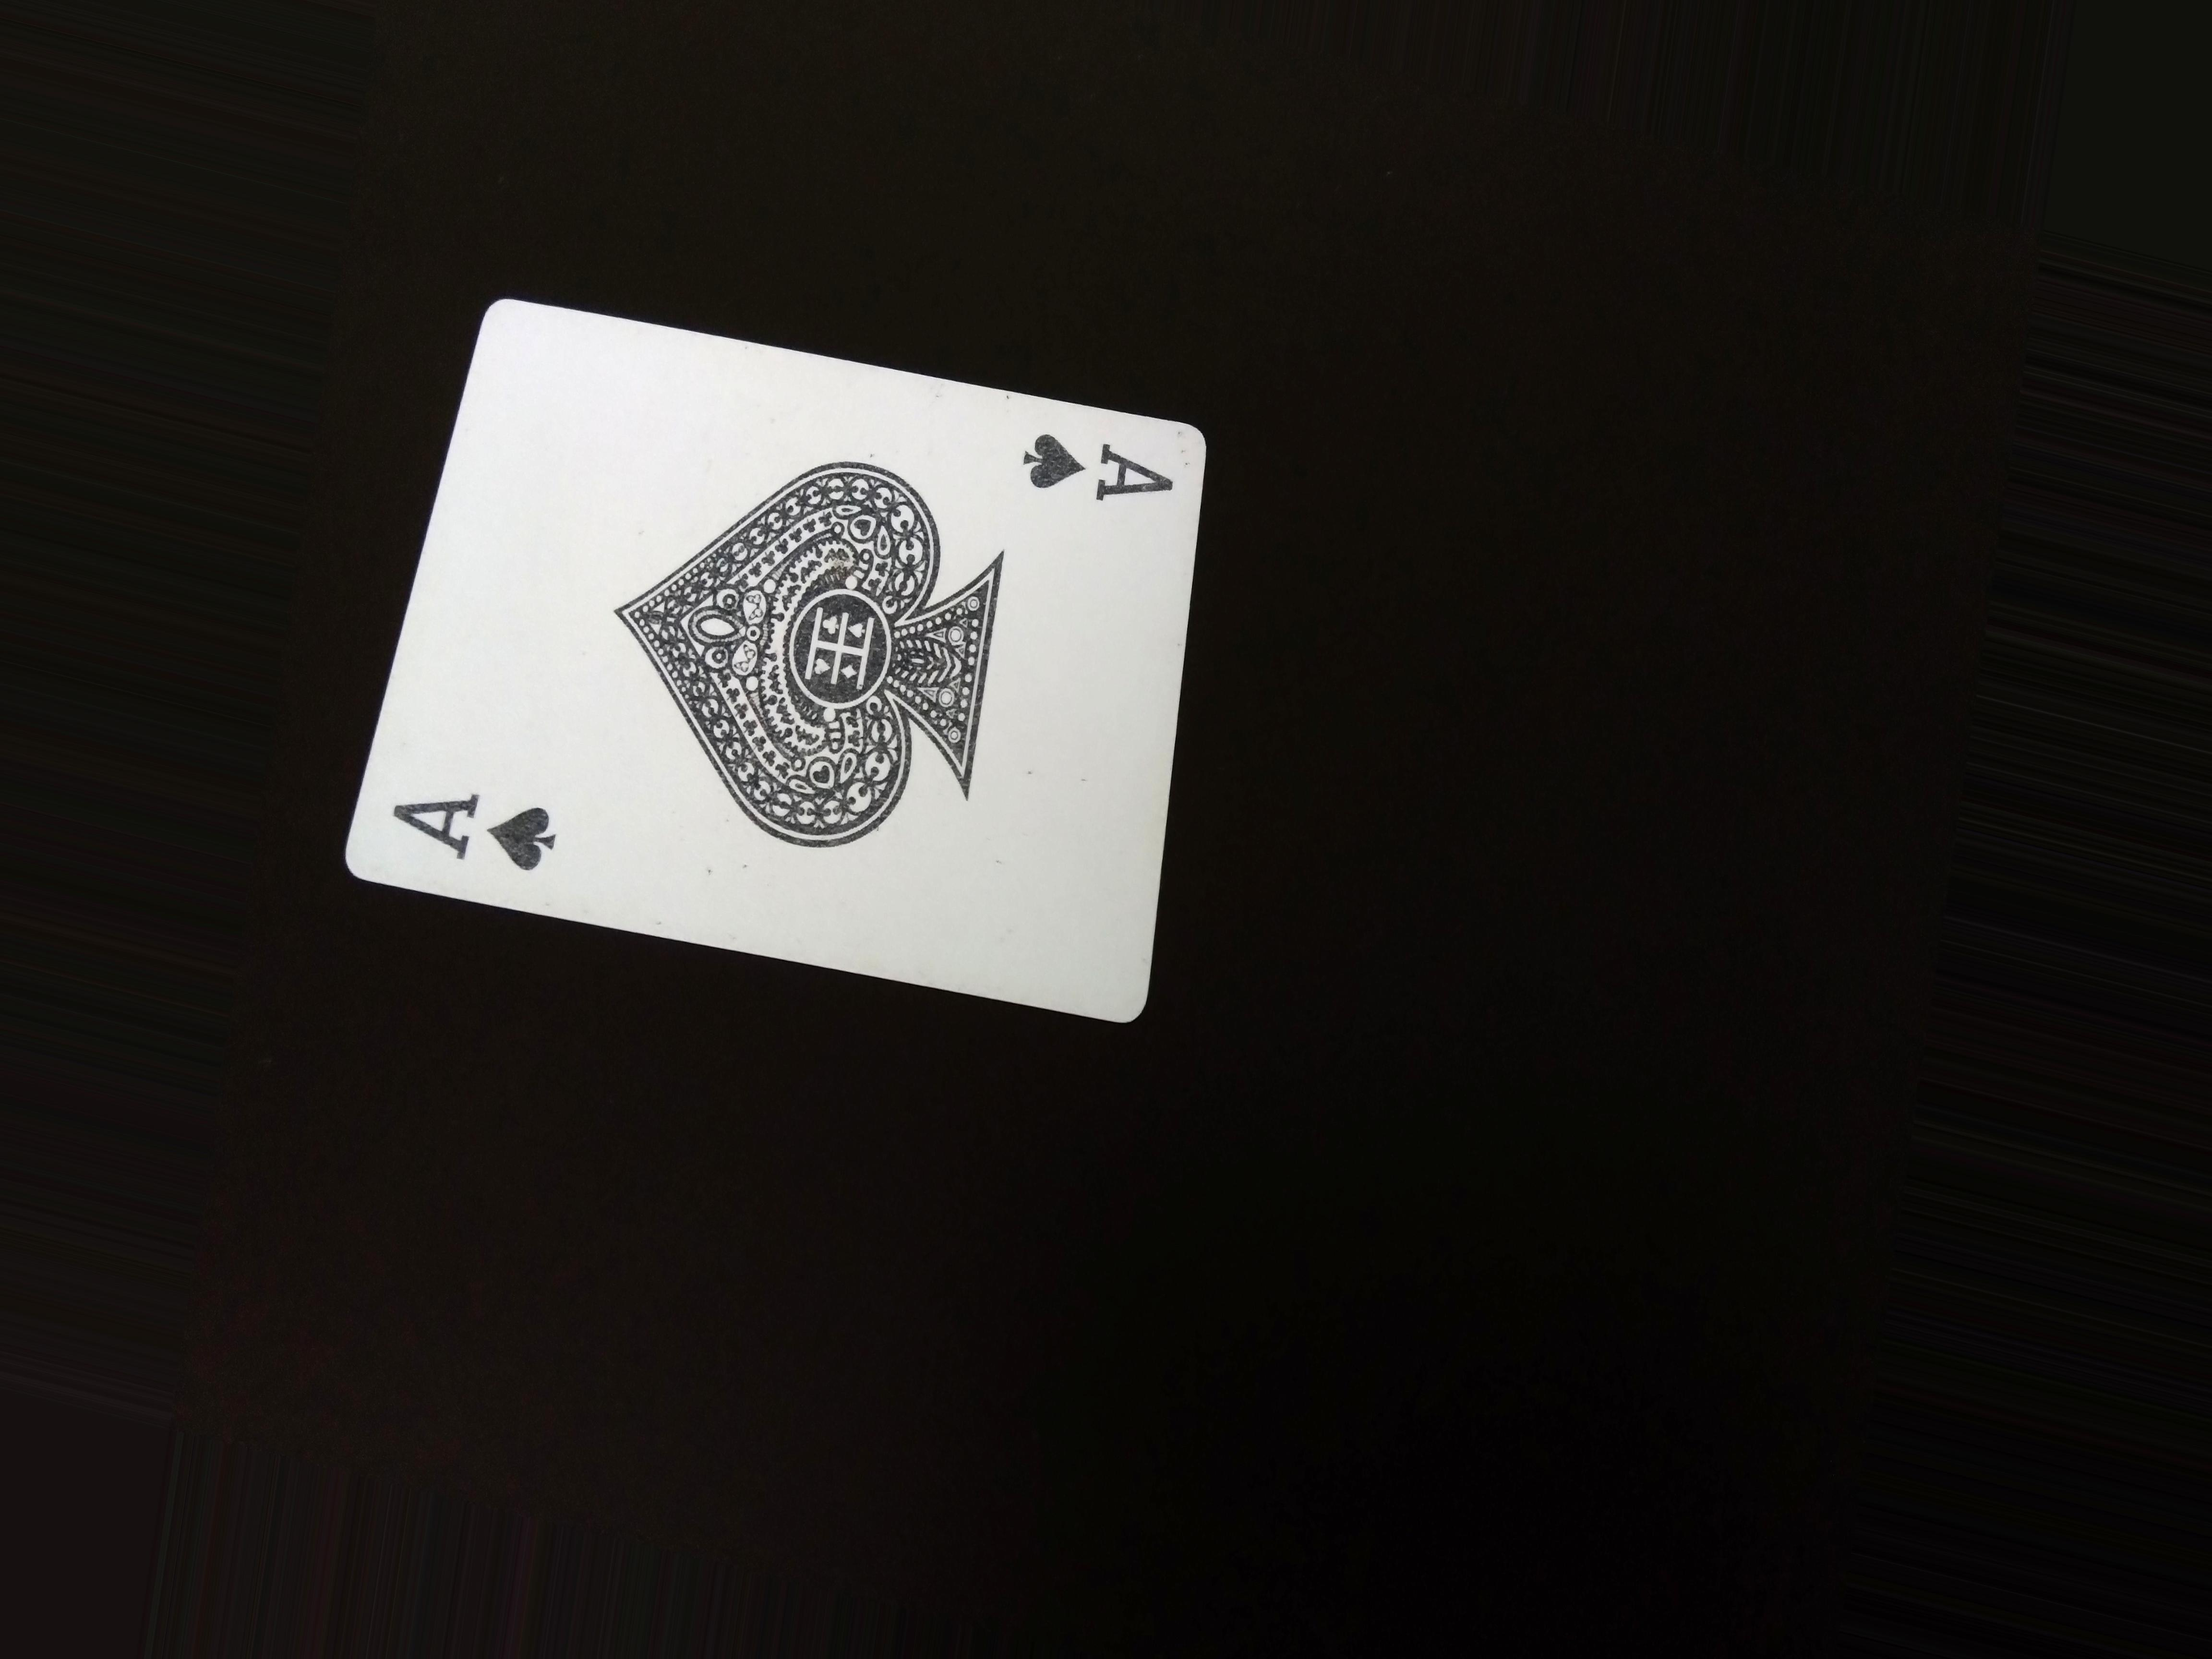AS: (1005, 422, 1184, 525)
